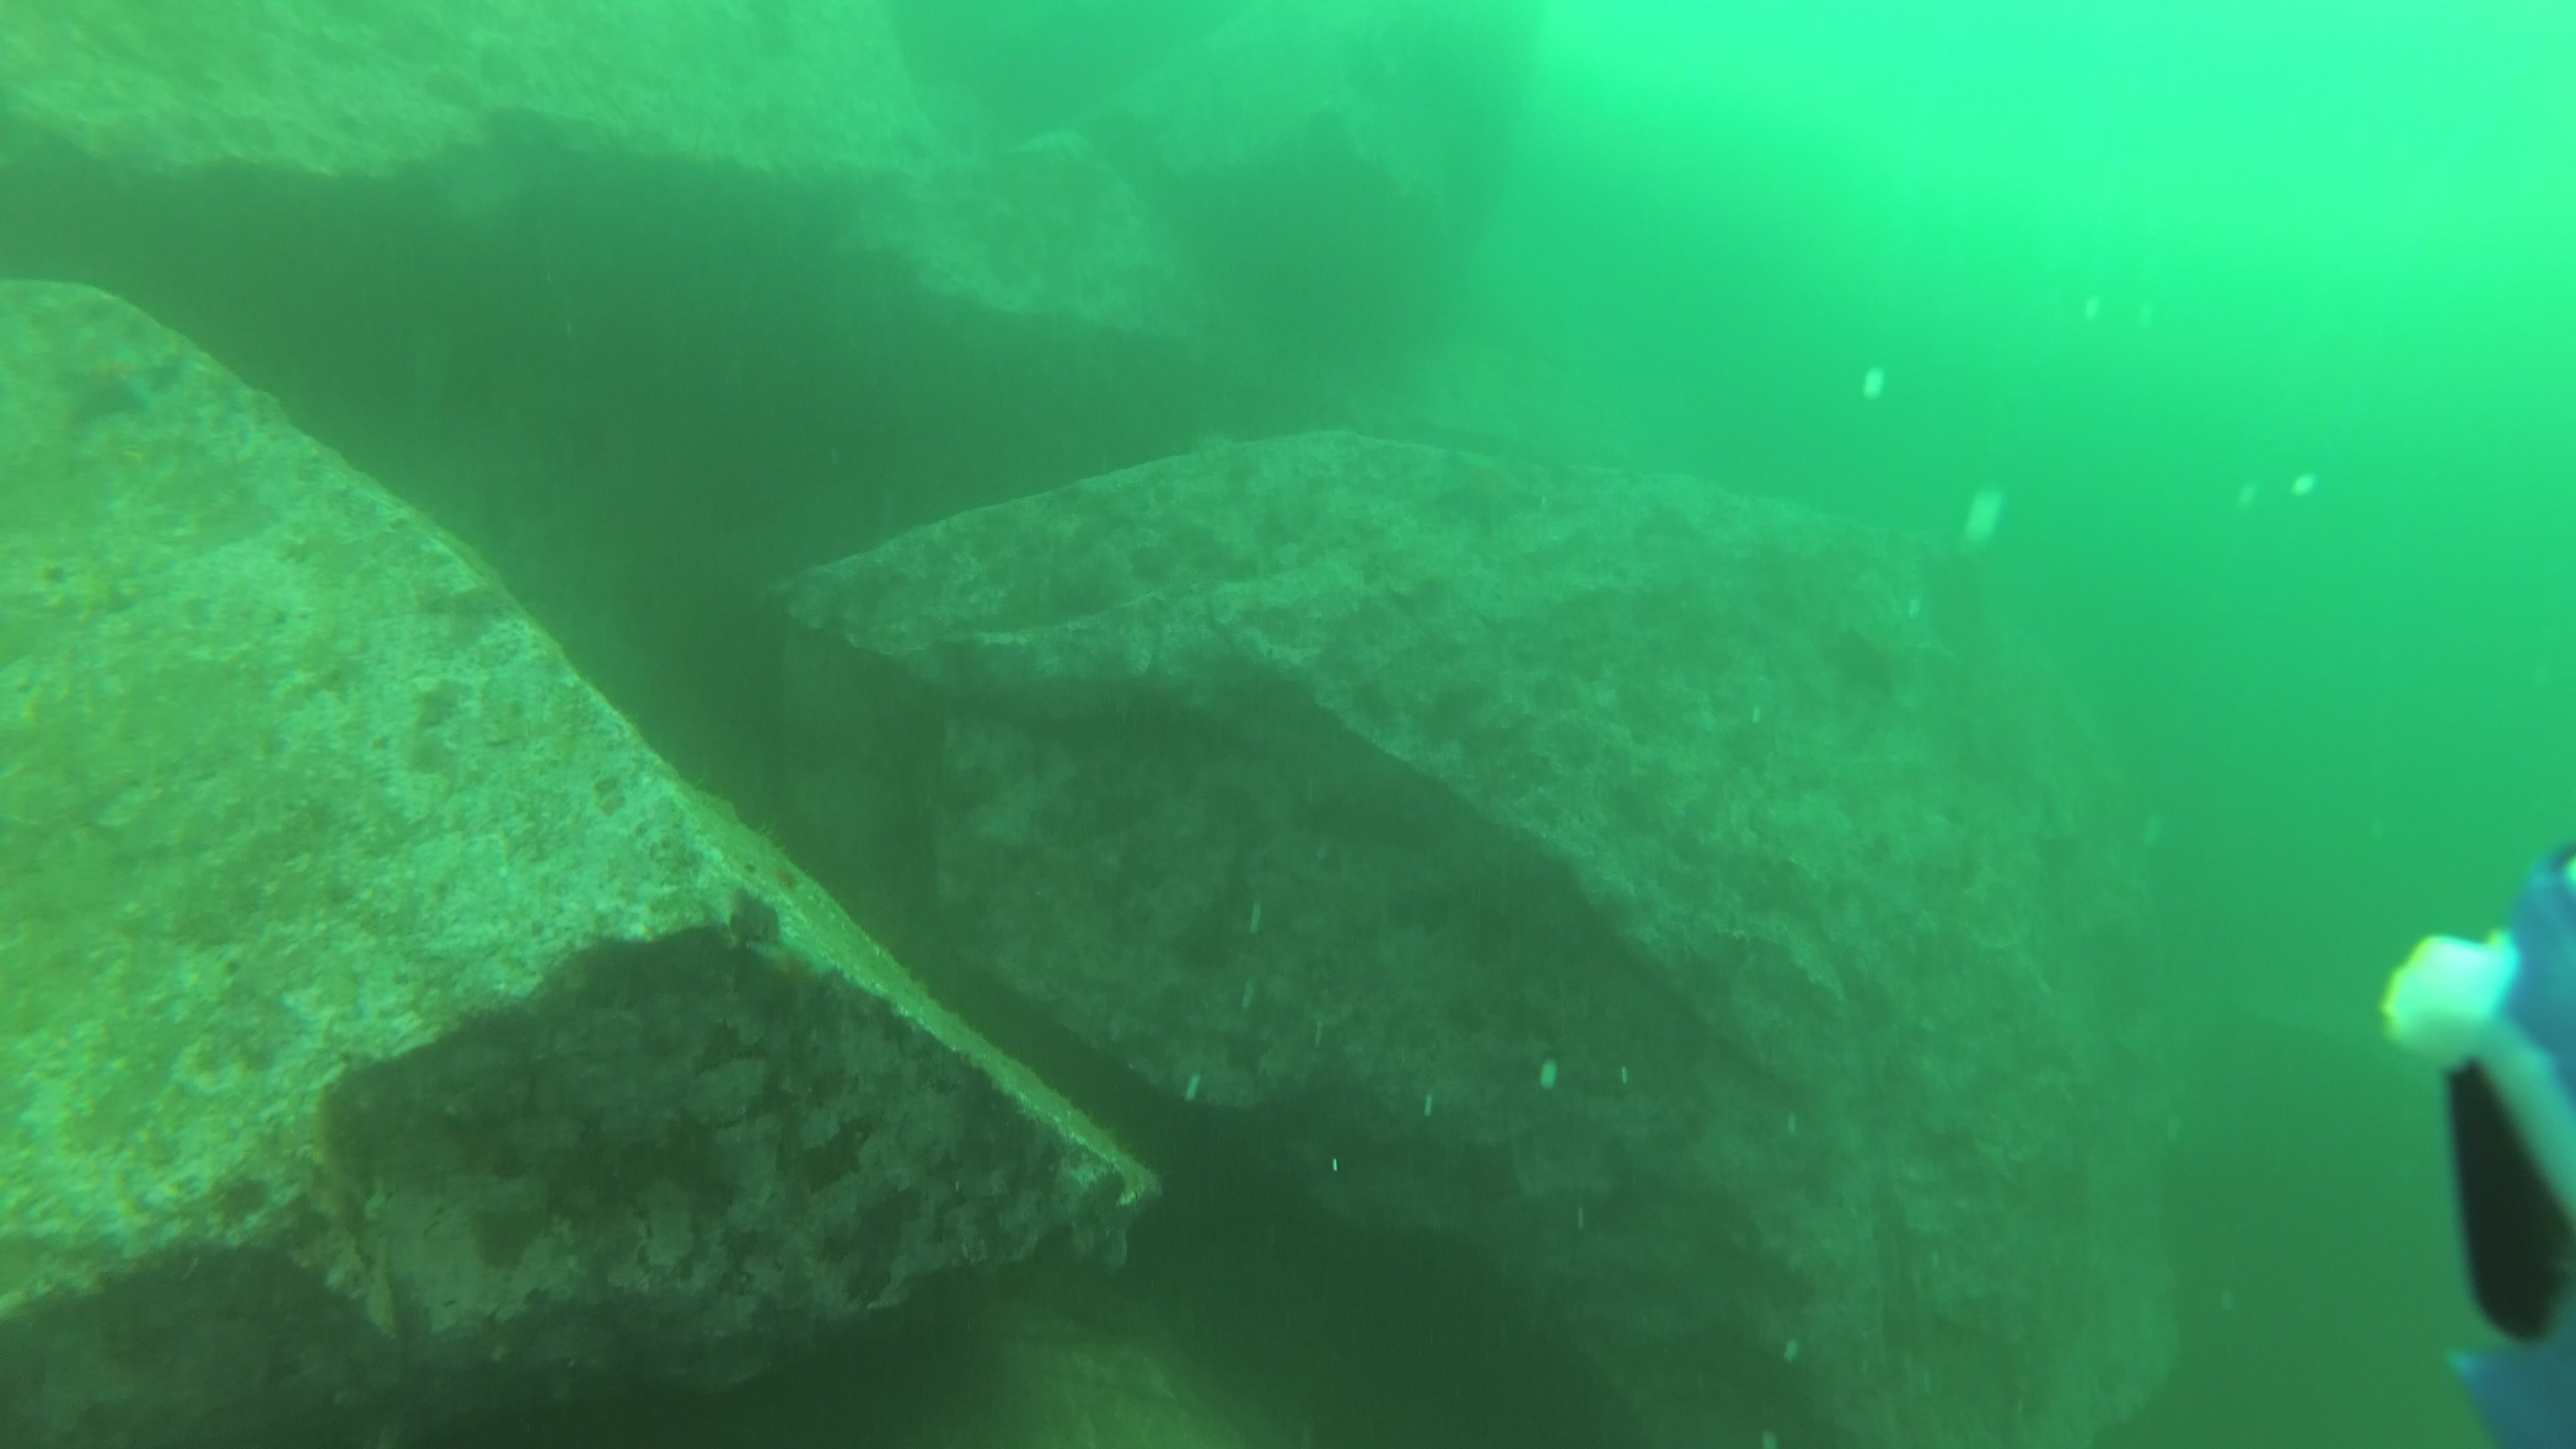starfish: (48, 343, 189, 435), (1445, 1123, 1537, 1223), (1812, 619, 1904, 706)
